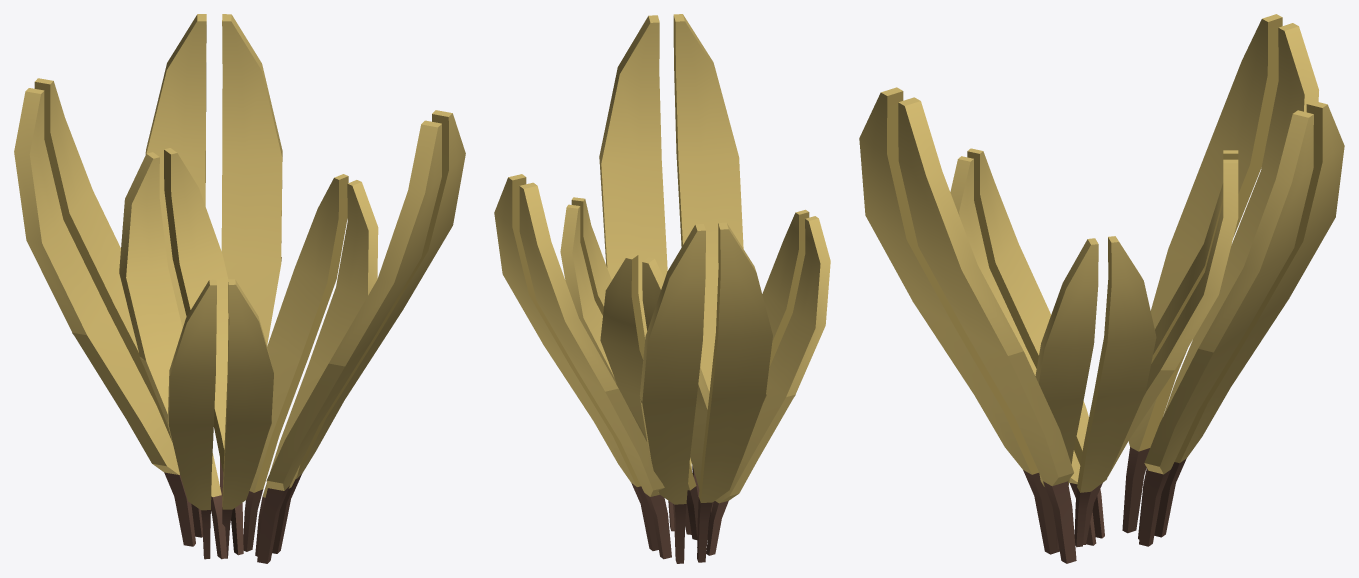
Rendered from plant_B.fbx.
3 views of the same model, side by side, from view 1: azimuth 30°, elevation 25°; view 2: azimuth 150°, elevation 25°; view 3: azimuth 270°, elevation 25° (orthographic). The views are drawn at different scales.
Parts seen in each view (by area): view 1: plant_B; view 2: plant_B; view 3: plant_B.
Part boxes in pixels (x1=…): plant_B: x1=14, y1=14, x2=465, y2=563; plant_B: x1=494, y1=14, x2=830, y2=563; plant_B: x1=859, y1=14, x2=1344, y2=563.
Bounding box in the file's own units: 45.04 × 66.32 × 56.82.
